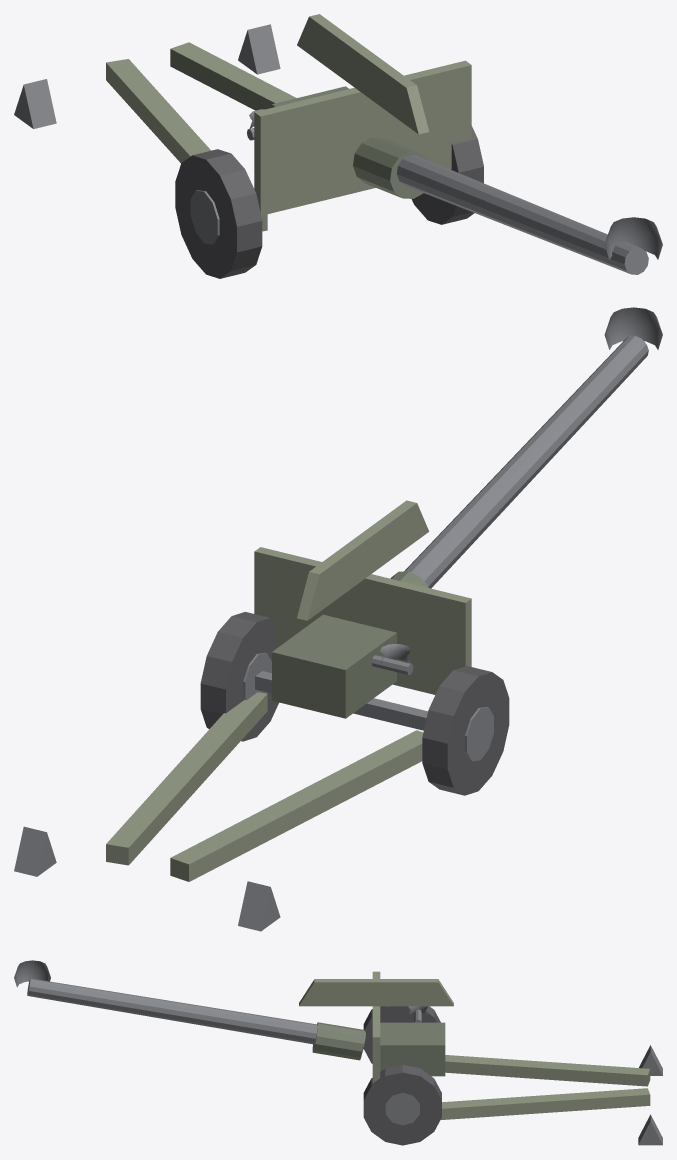
Rendered from armoured-column-and-field-camp-field-howitzer-754a96b5__23679.glb.
The picture shows the model from 3 angles, top to bottom: view 1: azimuth 30°, elevation 25°; view 2: azimuth 150°, elevation 25°; view 3: azimuth 270°, elevation 25°; orthographic projection. The views are drawn at different scales.
Visible parts, largest first — view 1: field-howitzer; view 2: field-howitzer; view 3: field-howitzer.
Boxes of the visible parts, <box> form: field-howitzer: <box>14,14,662,278</box>; field-howitzer: <box>14,307,662,931</box>; field-howitzer: <box>14,960,662,1145</box>.
Bounding box in the file's own units: 2.48 × 2.06 × 8.38.
